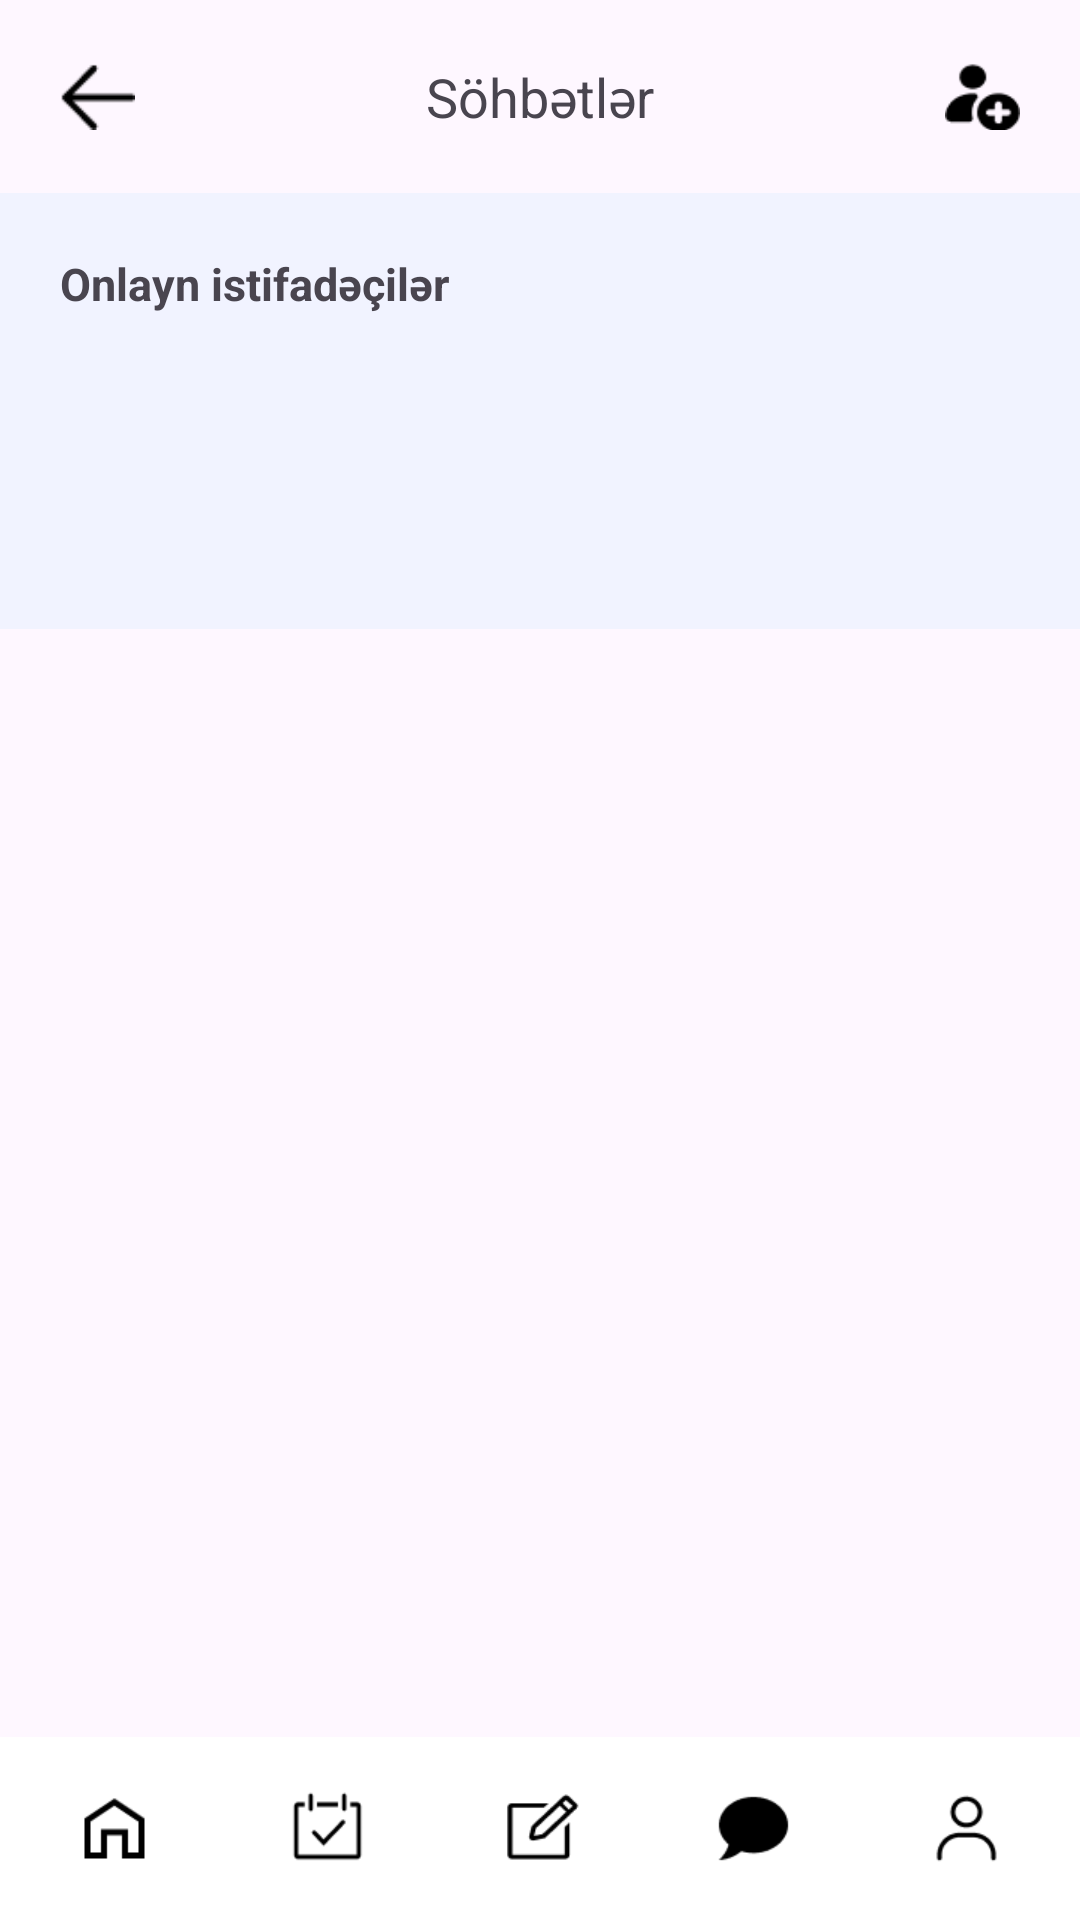

Screen size 1080 × 1920. Icon name, then its center in pixels as (x=x, y=y):
account: (x=966, y=1828)
addnewchat: (x=982, y=97)
backarrow: (x=98, y=97)
chatactive: (x=753, y=1828)
event: (x=327, y=1826)
exam: (x=543, y=1827)
home: (x=114, y=1828)
